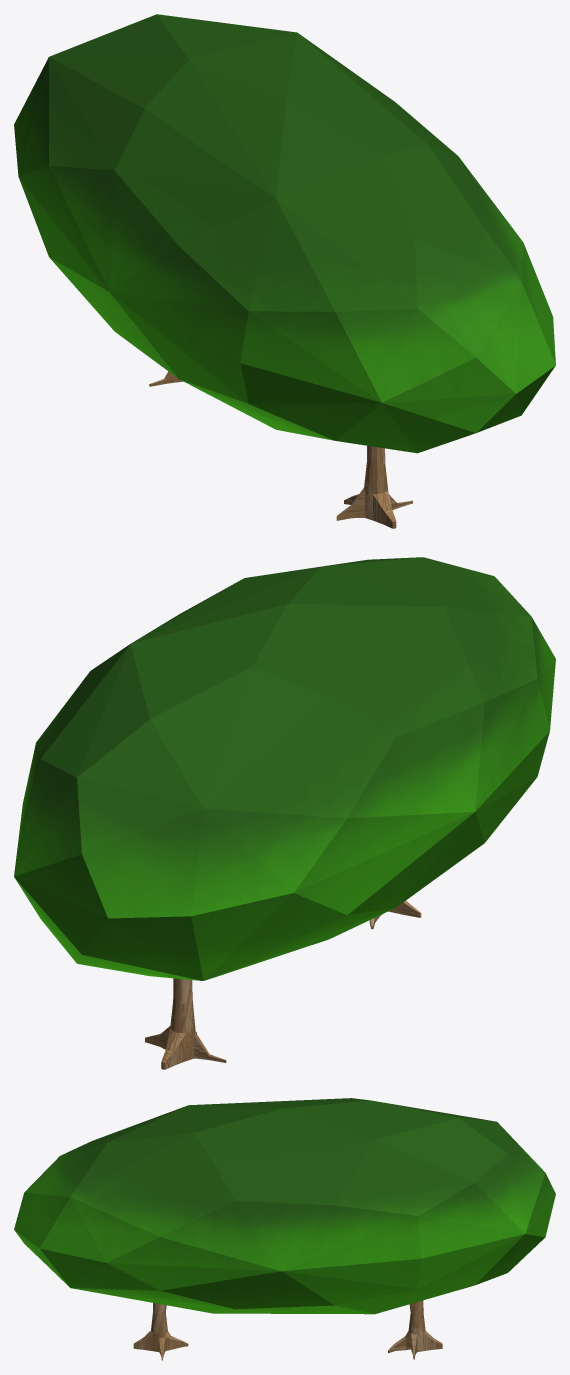
File: Bush.fbx
3 renders of one model, top to bottom at view 1: azimuth 30°, elevation 25°; view 2: azimuth 150°, elevation 25°; view 3: azimuth 270°, elevation 25°, orthographic. The views are drawn at different scales.
Parts seen in each view (by area): view 1: Bush_Branch; view 2: Bush_Branch; view 3: Bush_Branch.
Part boxes in pixels (left/top/right/bottom): Bush_Branch: left=14, top=14, right=555, bottom=528; Bush_Branch: left=14, top=557, right=555, bottom=1069; Bush_Branch: left=14, top=1098, right=555, bottom=1360.
Size of the model in its own units: 1.23 by 2.4 by 1.18.
